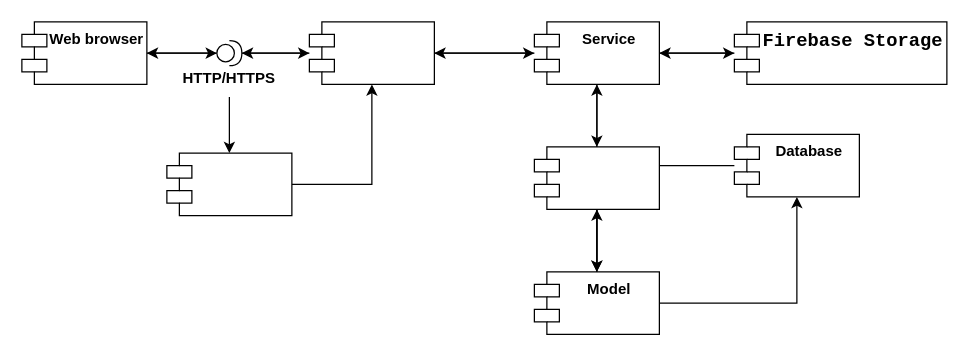
The diagram is 969 pixels wide and 356 high, and some of its shapes have lost their labels. Each missing label, with the centre of its shape:
"Controller" belongs at point 371,52.
"Middleware" belongs at point 229,184.
"Repository" belongs at point 596,177.
